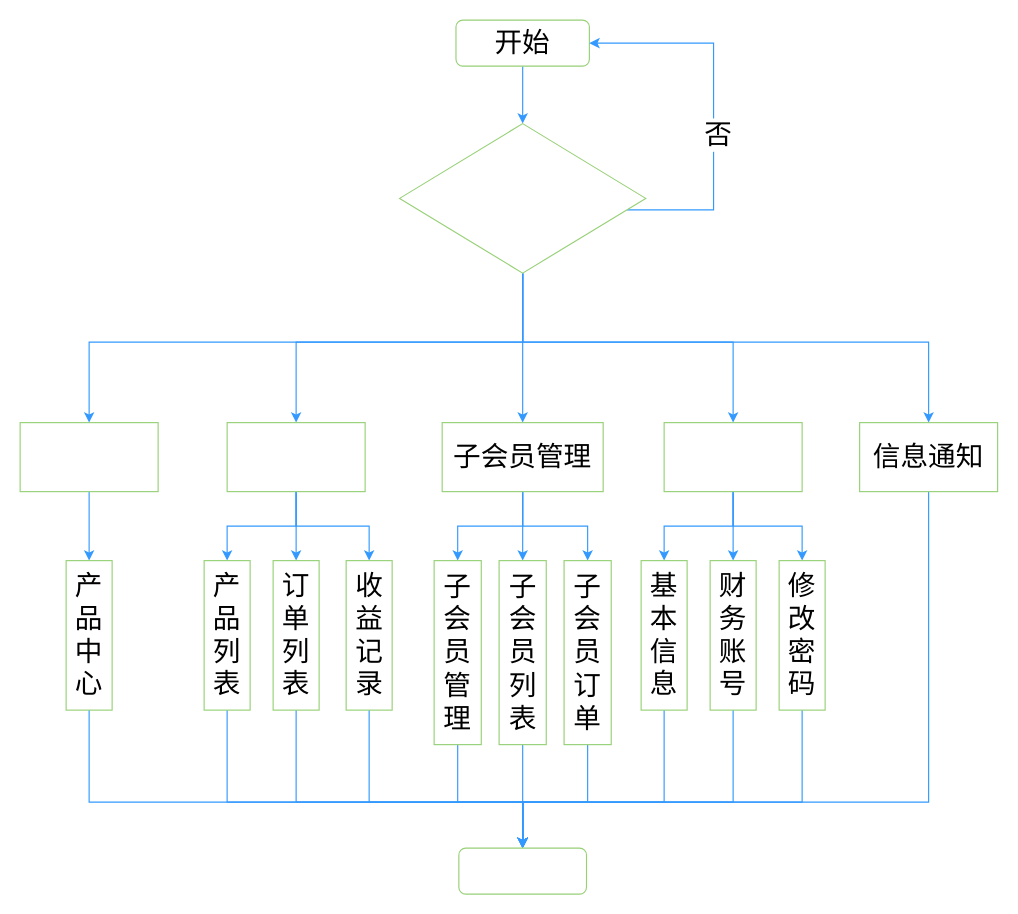
Some shapes in this 1018 by 914 pixel diagram are drawn without their labels. Each missing label, with the centre of its shape:
"产品介绍" belongs at point 88,456.
"我的产品" belongs at point 295,456.
"我的信息" belongs at point 732,456.
"登录验证通过？" belongs at point 522,197.
"结束" belongs at point 522,870.
